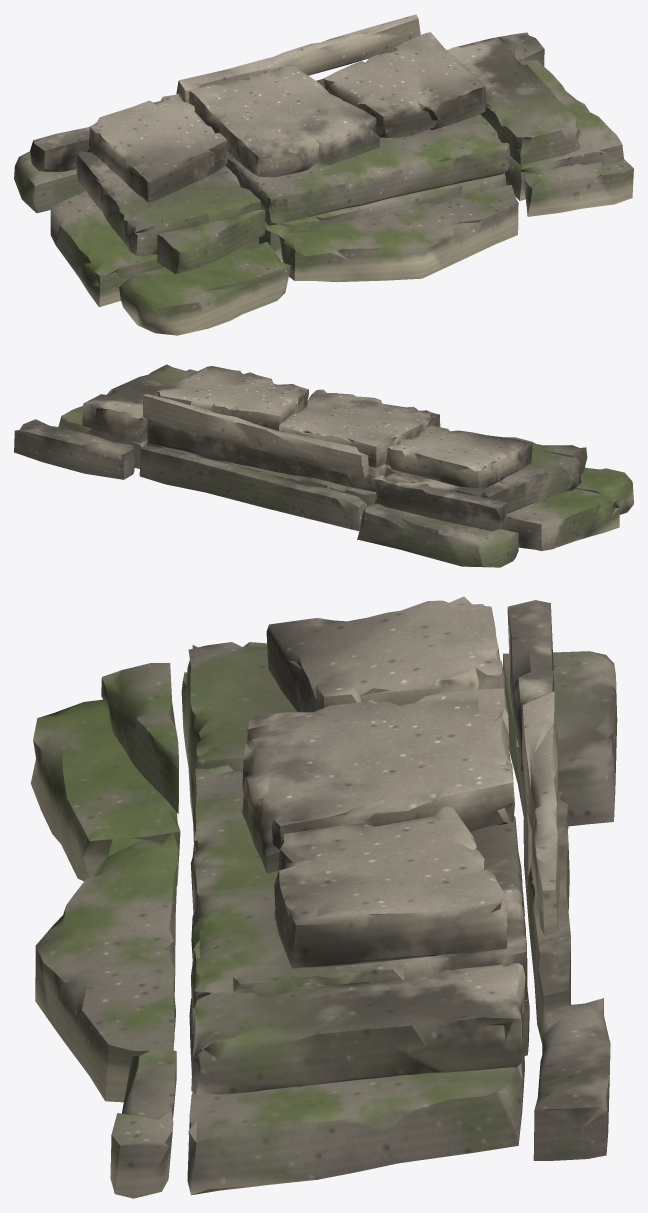
Rendered from BeachRock_B.gltf.
3 renders of one model, top to bottom at view 1: azimuth 30°, elevation 25°; view 2: azimuth 150°, elevation 25°; view 3: azimuth 270°, elevation 25°, orthographic. The views are drawn at different scales.
Parts seen in each view (by area): view 1: BeachRock_B; view 2: BeachRock_B; view 3: BeachRock_B.
Boxes of the visible parts, <box> form: BeachRock_B: <box>14,14,633,335</box>; BeachRock_B: <box>14,364,633,567</box>; BeachRock_B: <box>30,596,617,1198</box>.
Bounding box in the file's own units: 3.89 × 0.8683 × 1.98.
1 material, 1 textured.
